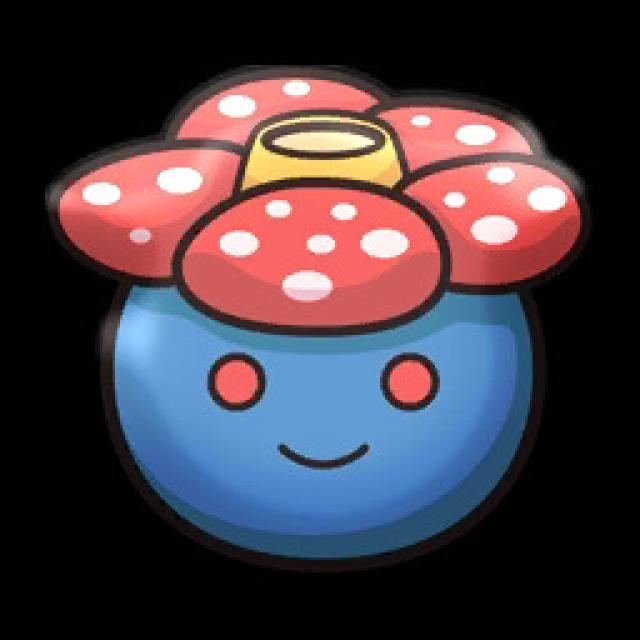Vileplume: (123, 67, 531, 563)
